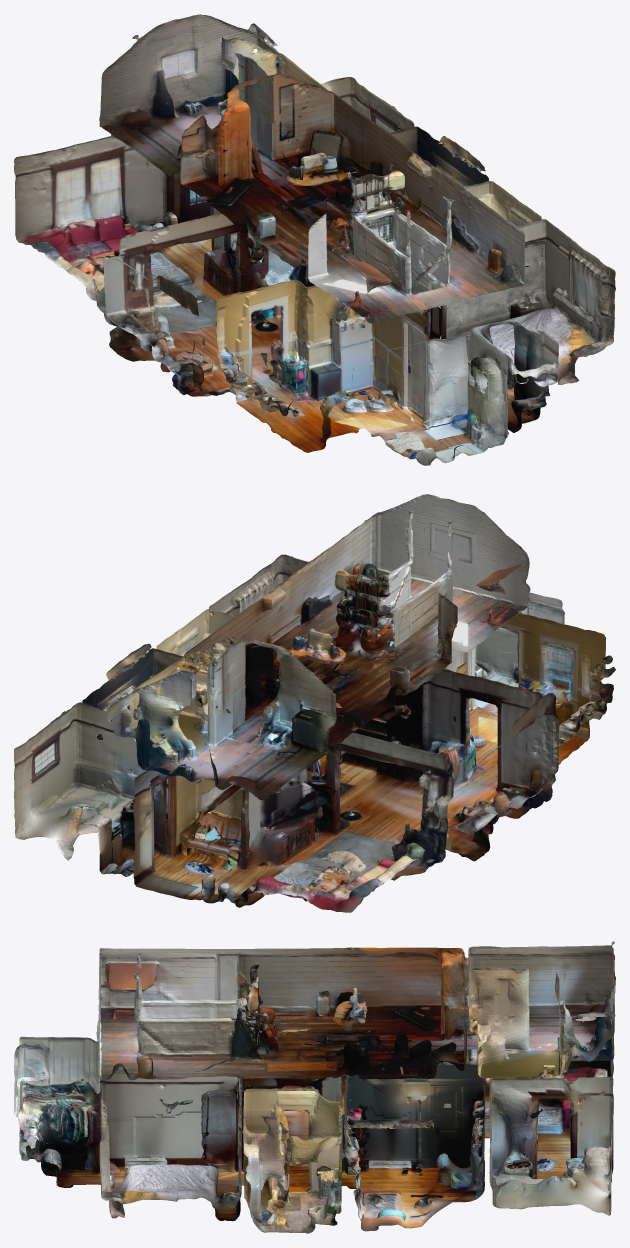
Rendered from raw.gltf.
3 views of the same model, one above another, from view 1: azimuth 30°, elevation 25°; view 2: azimuth 150°, elevation 25°; view 3: azimuth 270°, elevation 25° (orthographic). The views are drawn at different scales.
Visible parts, largest first — view 1: Story 0, Story 1; view 2: Story 0, Story 1; view 3: Story 0, Story 1.
Boxes of the visible parts, x1,y1,x2,y2 form: Story 0: (14,77,615,465); Story 1: (99,14,524,323); Story 0: (14,554,615,912); Story 1: (106,494,530,800); Story 0: (14,976,615,1233); Story 1: (98,941,615,1128).
Size of the model in its own units: 8.7 by 4.92 by 13.23.
8 materials, 8 textured.
